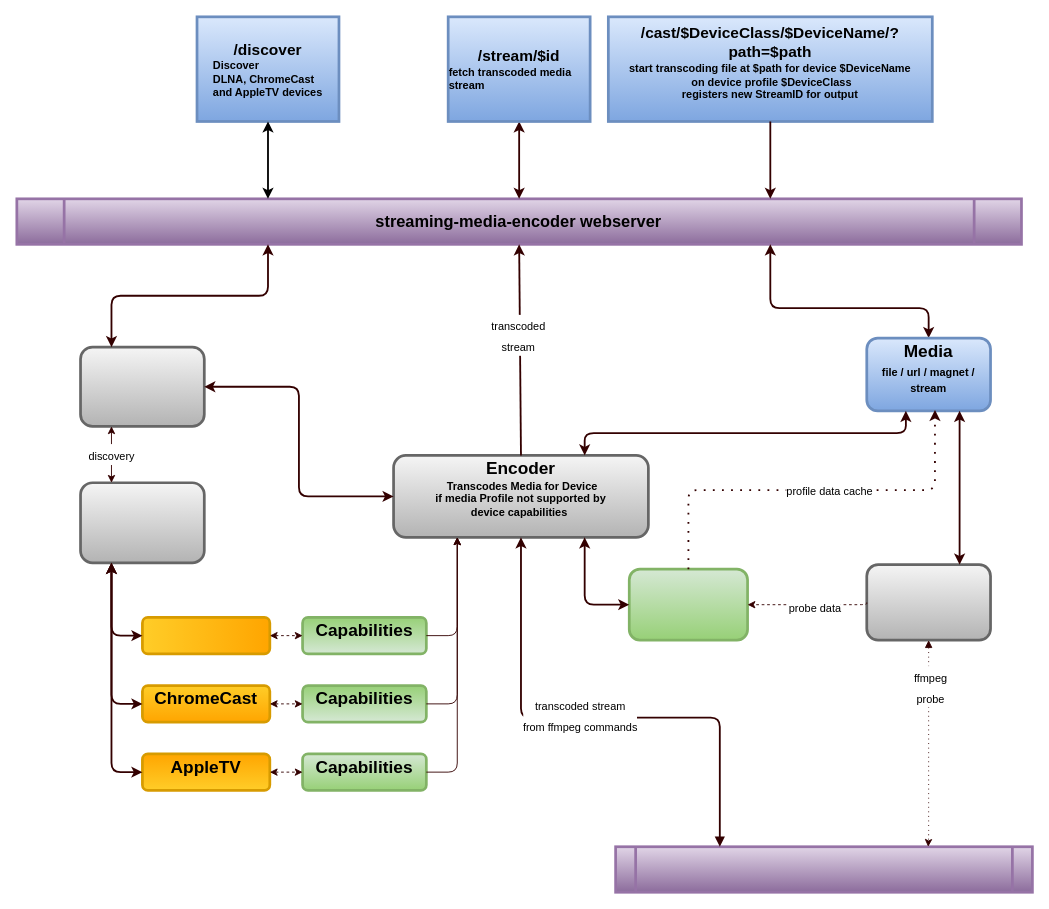
Some shapes in this 1049 by 909 pixel diagram are drawn without their labels. Here are the shapes that lost their labels. From the top down, the centre of each, then its label:
At pixel 142 386: "Engine base programming interface".
At pixel 142 522: "DeviceList performs discovery and caches device capabilities".
At pixel 687 604: "Profile video/audio streams/codecs".
At pixel 928 602: "Analyzer find video/audio codecs in media".
At pixel 206 635: "DLNA".
At pixel 823 869: "FFm peg webserver".
